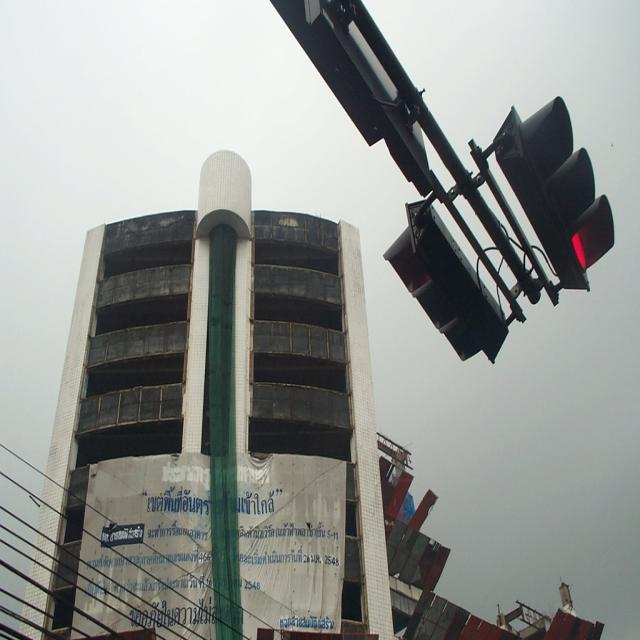off traffic light: (382, 197, 508, 364)
traffic light: (467, 93, 614, 306)
